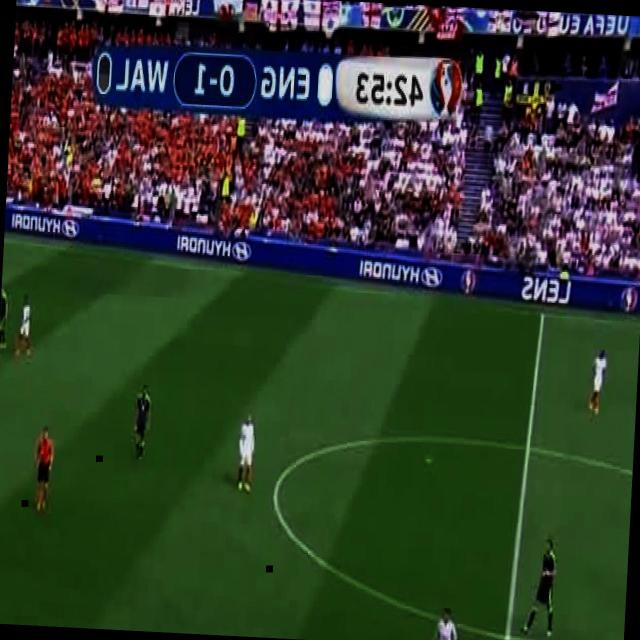player-white: (521, 538, 558, 638), (32, 423, 56, 515), (236, 413, 258, 497), (586, 343, 608, 415), (13, 294, 35, 358), (133, 384, 151, 459), (424, 605, 460, 640), (0, 284, 10, 349)
